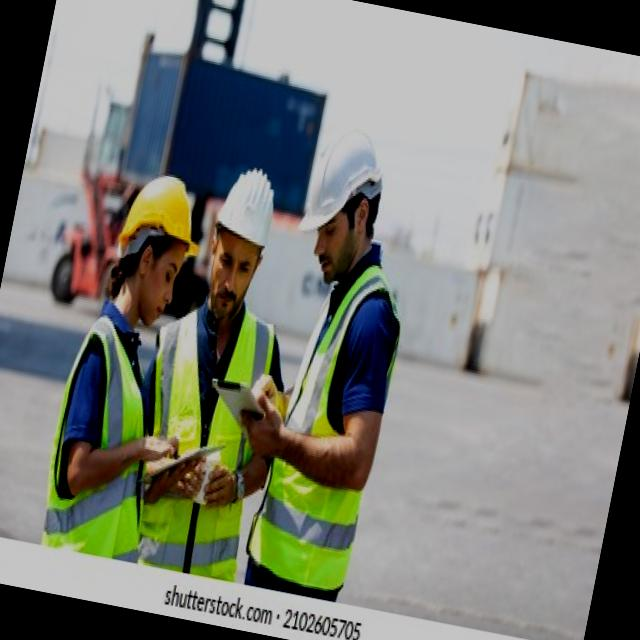helmet: (305, 117, 386, 241), (121, 168, 207, 275), (210, 155, 284, 263)
no-goggles: (201, 236, 271, 284), (313, 204, 352, 252), (150, 242, 183, 288)
vest: (237, 253, 415, 622), (133, 294, 288, 570), (38, 296, 182, 566)
